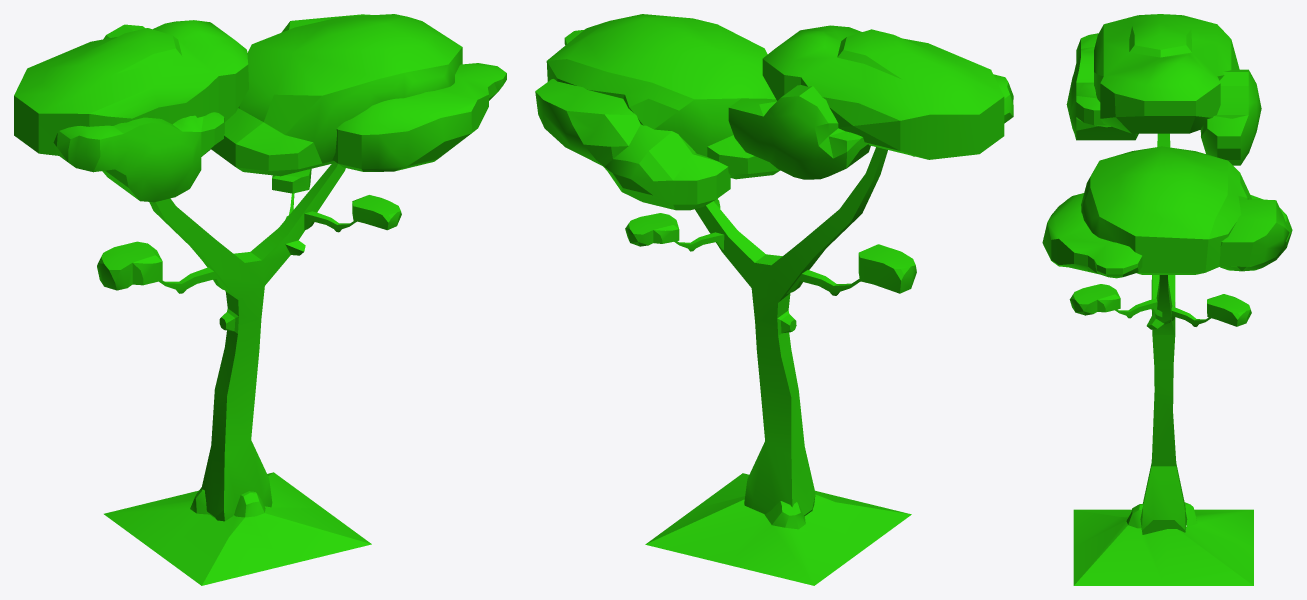
File: FOL_Foliage_06.FBX
3 views of the same model, side by side, from view 1: azimuth 30°, elevation 25°; view 2: azimuth 150°, elevation 25°; view 3: azimuth 270°, elevation 25° (orthographic). The views are drawn at different scales.
Visible parts, largest first — view 1: FOL_Foliage_06; view 2: FOL_Foliage_06; view 3: FOL_Foliage_06.
Boxes of the visible parts, x1,y1,x2,y2 form: FOL_Foliage_06: (14,14,506,585); FOL_Foliage_06: (535,14,1013,585); FOL_Foliage_06: (1042,14,1292,585).
Size of the model in its own units: 15.86 by 17.48 by 8.33.
